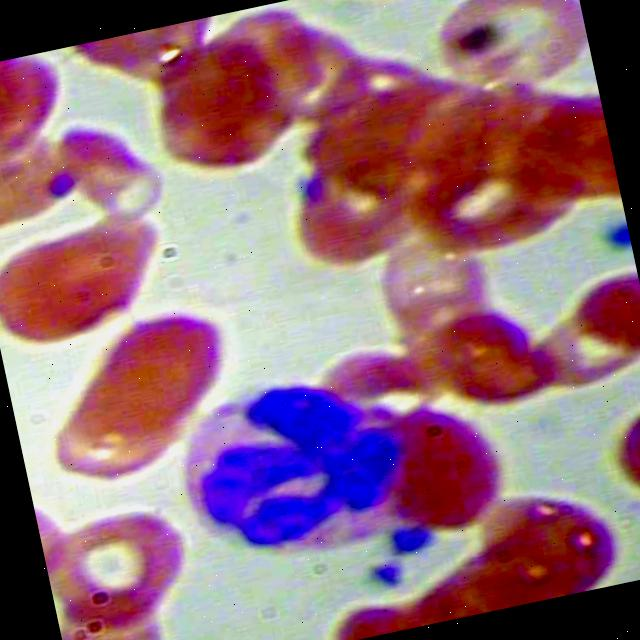Platelets: (380, 514, 440, 569), (359, 545, 419, 599), (590, 213, 633, 260)
RBC: (0, 200, 184, 366), (128, 25, 300, 194), (76, 300, 247, 452), (363, 388, 522, 548), (35, 492, 203, 640), (282, 133, 436, 280), (470, 466, 626, 610), (357, 210, 506, 352), (413, 284, 562, 426), (36, 369, 185, 511), (419, 0, 597, 118), (238, 3, 382, 148), (47, 106, 174, 247), (0, 46, 86, 166)
WBC: (153, 352, 426, 580)
